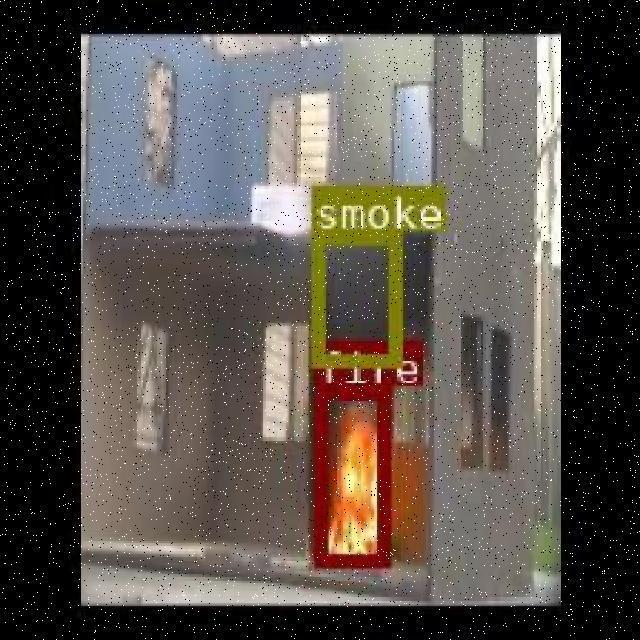Smoke: (309, 260, 398, 331)
